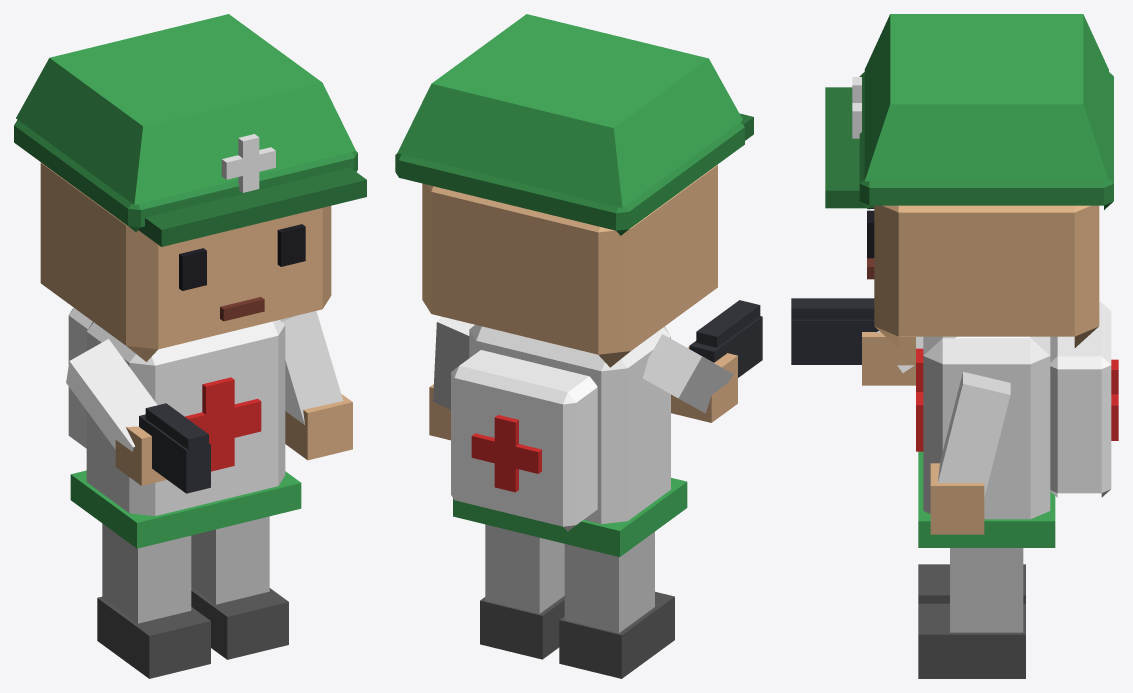
The model's file is medic.glb.
The picture shows the model from 3 angles, left to right: view 1: azimuth 30°, elevation 25°; view 2: azimuth 150°, elevation 25°; view 3: azimuth 270°, elevation 25°; orthographic projection. The views are drawn at different scales.
Parts seen in each view (by area): view 1: medic_mesh; view 2: medic_mesh; view 3: medic_mesh.
Boxes of the visible parts, x1,y1,x2,y2 form: medic_mesh: (14,14,366,678); medic_mesh: (395,14,762,678); medic_mesh: (791,14,1118,678).
Bounding box in the file's own units: 0.6303 × 1.3 × 0.6598.
Materials: 1 (1 with a texture image).
